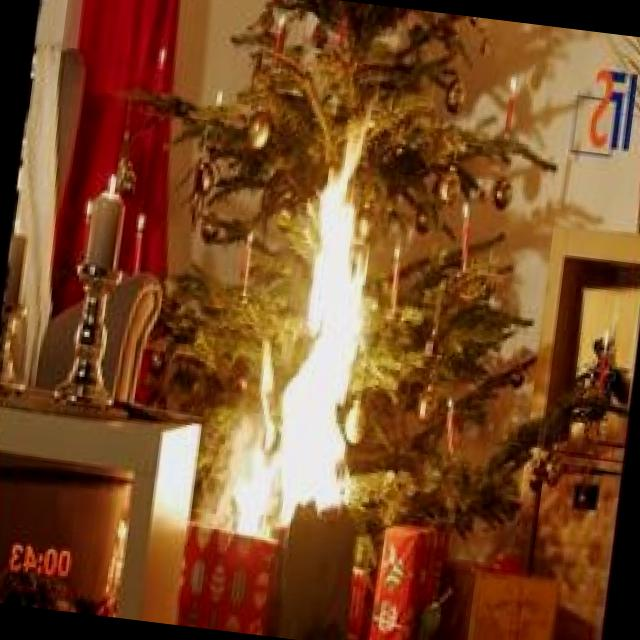fire: (210, 101, 426, 554)
